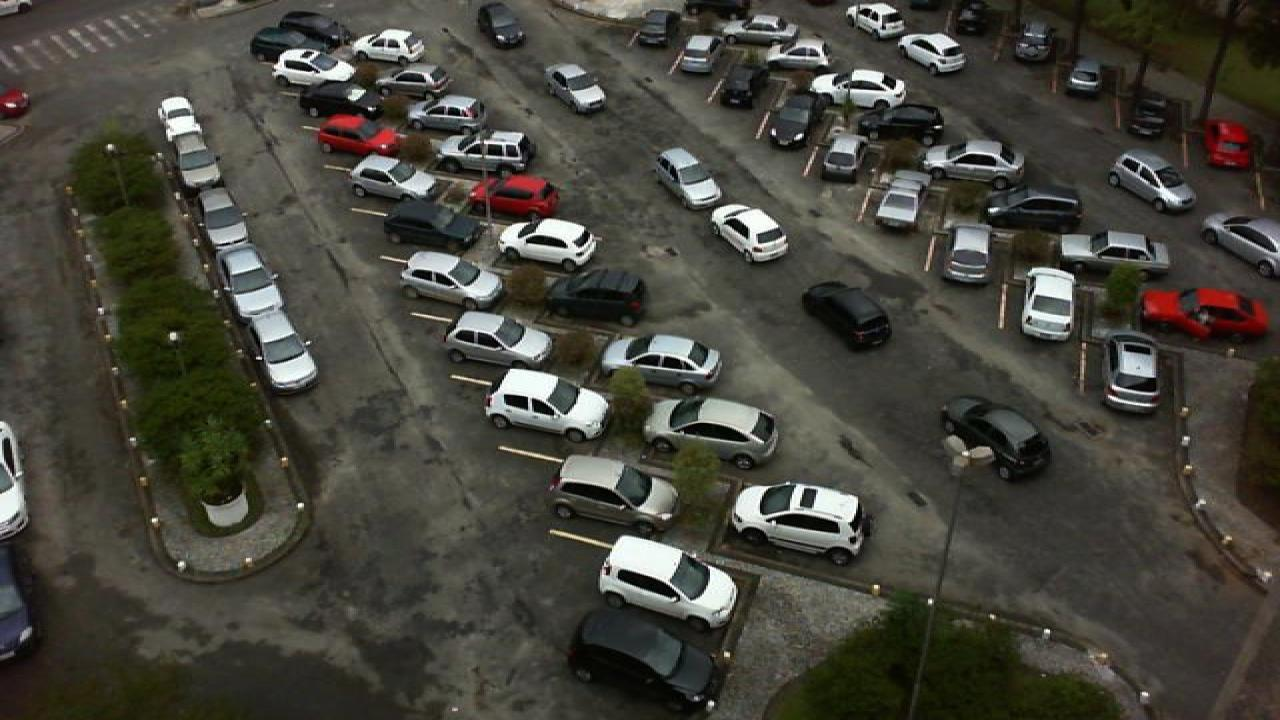Car: (566, 604, 722, 711), (594, 534, 744, 636), (726, 477, 876, 566), (548, 453, 682, 538), (936, 391, 1058, 483), (644, 395, 782, 470), (482, 370, 616, 442), (596, 331, 724, 398), (1140, 286, 1272, 344), (440, 310, 558, 373), (800, 278, 898, 352), (398, 248, 502, 312), (492, 215, 604, 273), (544, 267, 650, 326), (376, 195, 482, 253), (1104, 150, 1198, 214), (1098, 329, 1166, 412), (916, 138, 1026, 189), (1196, 213, 1280, 279), (706, 200, 792, 264), (1054, 228, 1172, 274), (1016, 263, 1082, 342), (984, 183, 1088, 233), (466, 170, 562, 220), (346, 154, 442, 204), (804, 68, 912, 112), (654, 146, 726, 210), (438, 130, 538, 174), (254, 328, 318, 396), (936, 222, 1002, 286), (314, 112, 410, 156), (868, 168, 932, 232), (854, 101, 946, 143), (540, 62, 608, 115), (232, 280, 290, 341), (270, 47, 358, 87), (758, 93, 818, 151), (1196, 117, 1256, 172), (406, 94, 488, 134), (298, 80, 384, 118), (896, 30, 970, 74), (196, 189, 252, 247), (352, 28, 430, 66), (810, 130, 864, 184), (216, 242, 268, 298), (1122, 86, 1176, 138), (474, 0, 528, 50), (720, 61, 774, 111), (374, 62, 452, 96), (718, 15, 800, 47), (154, 94, 206, 144), (762, 36, 834, 72), (170, 139, 222, 188), (248, 28, 320, 63), (844, 0, 908, 38), (278, 10, 352, 42), (670, 32, 720, 76), (1012, 19, 1058, 63), (1060, 54, 1106, 97), (948, 0, 994, 39), (634, 8, 676, 47), (680, 0, 754, 21)
